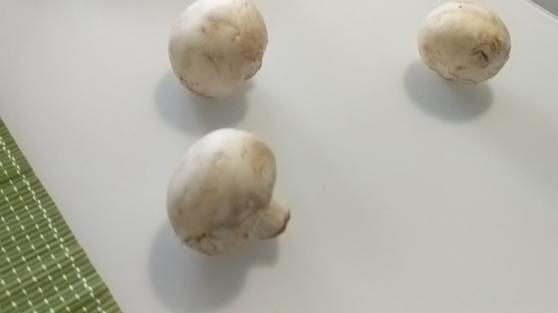champignon: (166, 127, 293, 254), (170, 2, 268, 95), (416, 4, 512, 85)
